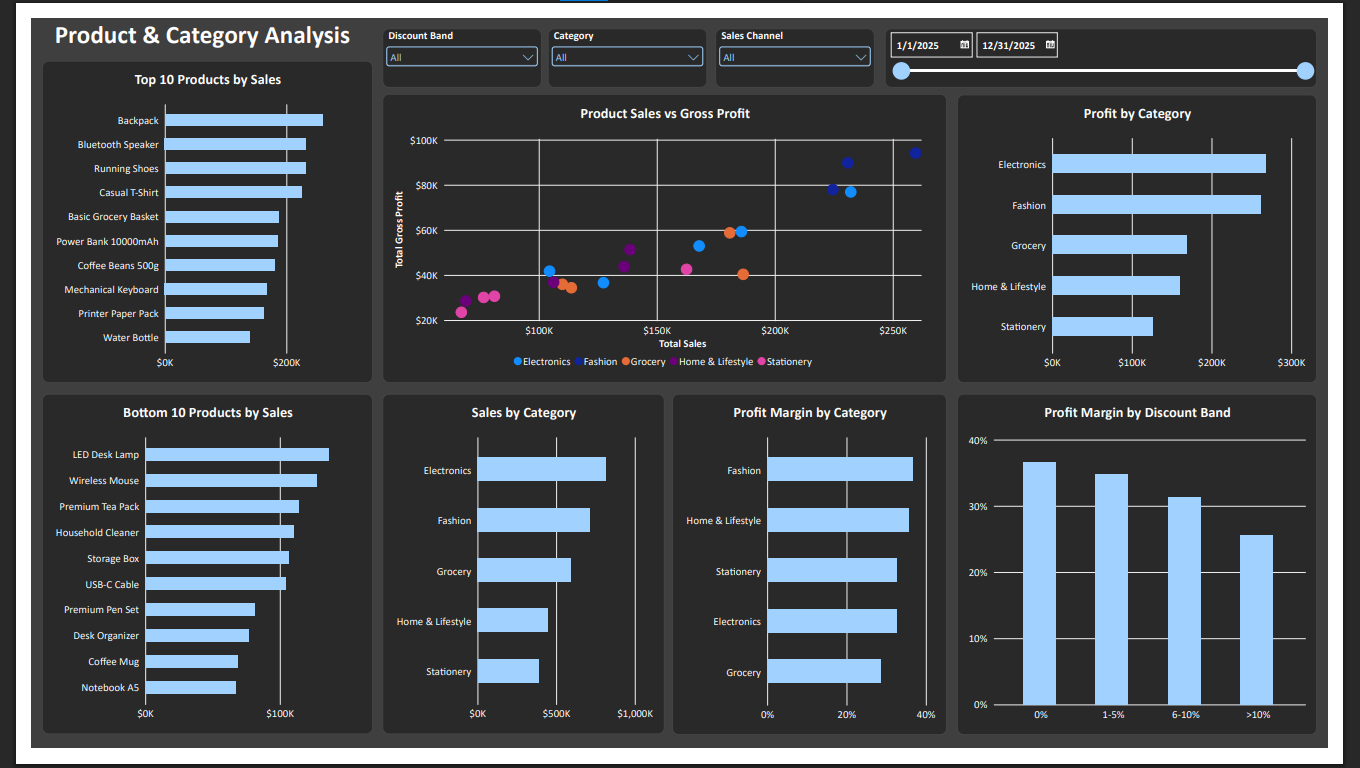

Layout of this report page (visuals, bound fields, positions):
{"tool":"powerbi","page":{"name":"Product & Category Analysis","canvas":[1920,1080],"ordinal":1},"visuals":[{"type":"clusteredBarChart","title":"Sales by Category","fields":{"Category":["RetailSales.Category"],"Y":["MeasureTable.Total Sales"]},"box":[520.3,555.8,417.8,504.5],"z":0},{"type":"clusteredBarChart","title":"Profit by Category","fields":{"Category":["RetailSales.Category"],"Y":["MeasureTable.Total Gross Profit"]},"box":[1371.2,112.5,532.5,427.5],"z":1000},{"type":"clusteredBarChart","title":"Profit Margin by Category","fields":{"Category":["RetailSales.Category"],"Y":["MeasureTable.Profit Margin"]},"box":[948.8,556.2,407.5,505],"z":2000},{"type":"clusteredBarChart","title":"Top 10 Products by Sales","fields":{"Y":["MeasureTable.Total Sales"],"Category":["RetailSales.Product_Name"]},"box":[15.8,63.1,490.7,476.9],"z":3000},{"type":"clusteredBarChart","title":"Bottom 10 Products by Sales","fields":{"Category":["RetailSales.Product_Name"],"Y":["MeasureTable.Total Sales"]},"box":[15.8,555.8,490.7,504.5],"z":4000},{"type":"scatterChart","title":"Product Sales vs Gross Profit","fields":{"X":["MeasureTable.Total Sales"],"Y":["MeasureTable.Total Gross Profit"],"Category":["RetailSales.Product_Name"],"Series":["RetailSales.Category"]},"box":[520.1,112,836.2,428],"z":5000},{"type":"clusteredColumnChart","title":"Profit Margin by Discount Band","fields":{"Category":["RetailSales.Discount Band"],"Y":["MeasureTable.Profit Margin"]},"box":[1371.2,556.2,532.5,505],"z":6000},{"type":"slicer","fields":{"Values":["DateTable.Date"]},"box":[1263.8,15,640,87.5],"z":7000},{"type":"slicer","fields":{"Values":["RetailSales.Sales_Channel"]},"box":[1012.5,15,236.2,87.5],"z":8000},{"type":"slicer","fields":{"Values":["RetailSales.Category"]},"box":[765,15,236.2,87.5],"z":9000},{"type":"slicer","fields":{"Values":["RetailSales.Discount Band"]},"box":[520,15,236.2,87.5],"z":10000},{"type":"textbox","box":[35.5,0,451.3,49.3],"z":11000}]}

Visuals, with their boxes in screenshot pixels (x1, y1, x2, y2), scaled from the page's 1920x1080 canvas onto the 1360x768 screenshot:
"Sales by Category" clusteredBarChart: (x1=369, y1=395, x2=664, y2=754)
"Profit by Category" clusteredBarChart: (x1=971, y1=80, x2=1348, y2=384)
"Profit Margin by Category" clusteredBarChart: (x1=672, y1=396, x2=961, y2=755)
"Top 10 Products by Sales" clusteredBarChart: (x1=11, y1=45, x2=359, y2=384)
"Bottom 10 Products by Sales" clusteredBarChart: (x1=11, y1=395, x2=359, y2=754)
"Product Sales vs Gross Profit" scatterChart: (x1=368, y1=80, x2=961, y2=384)
"Profit Margin by Discount Band" clusteredColumnChart: (x1=971, y1=396, x2=1348, y2=755)
slicer - DateTable.Date: (x1=895, y1=11, x2=1349, y2=73)
slicer - RetailSales.Sales_Channel: (x1=717, y1=11, x2=884, y2=73)
slicer - RetailSales.Category: (x1=542, y1=11, x2=709, y2=73)
slicer - RetailSales.Discount Band: (x1=368, y1=11, x2=536, y2=73)
textbox: (x1=25, y1=0, x2=345, y2=35)
